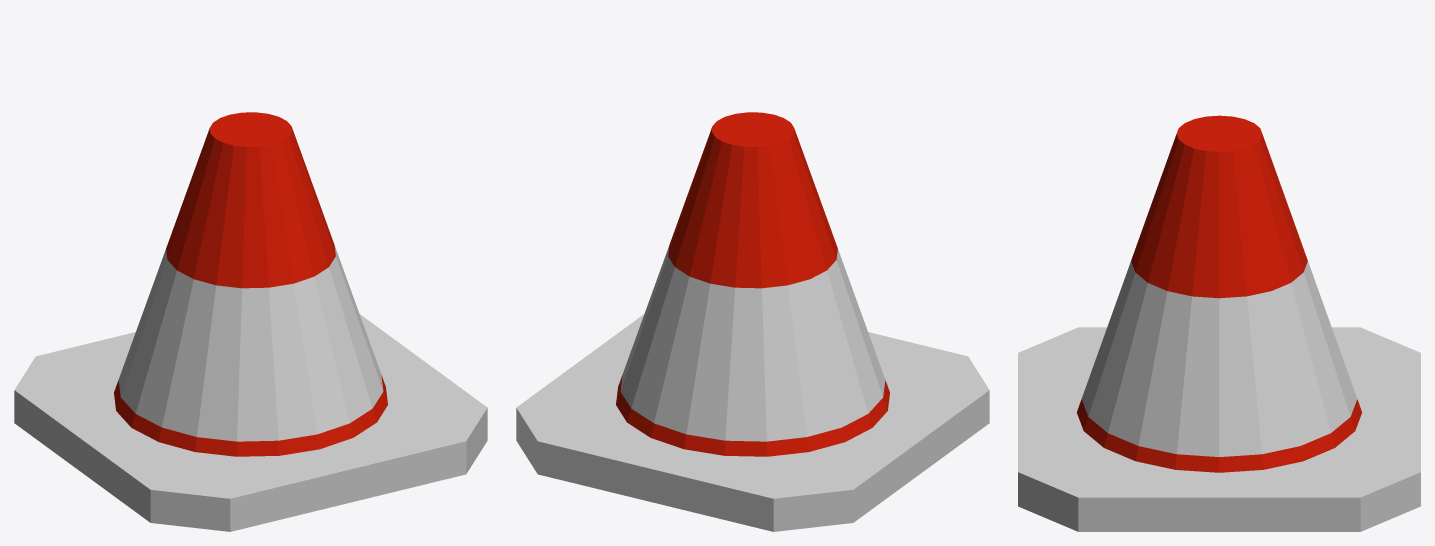
The model's file is TrafficCone.fbx.
The picture shows the model from 3 angles, left to right: view 1: azimuth 30°, elevation 25°; view 2: azimuth 150°, elevation 25°; view 3: azimuth 270°, elevation 25°; orthographic projection. The views are drawn at different scales.
Visible parts, largest first — view 1: pCone2, pCube1; view 2: pCone2, pCube1; view 3: pCone2, pCube1.
Part boxes in pixels (left/top/right/bottom): pCone2: left=114, top=112, right=387, bottom=456; pCube1: left=14, top=314, right=487, bottom=531; pCone2: left=616, top=112, right=889, bottom=456; pCube1: left=516, top=314, right=989, bottom=531; pCone2: left=1077, top=115, right=1361, bottom=472; pCube1: left=1018, top=327, right=1420, bottom=531.
Size of the model in its own units: 1 by 1.19 by 1.
